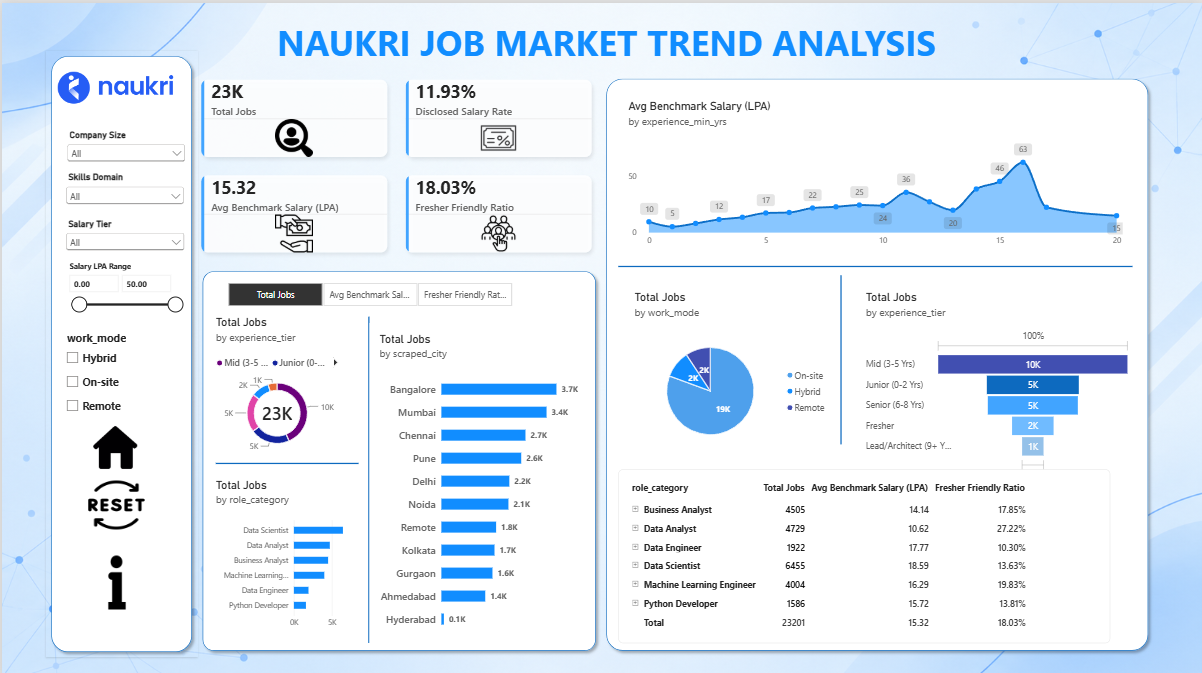

What the dashboard file says about the page in this screenshot:
{"tool":"powerbi","page":{"name":"Page 1","canvas":[1920,1080],"ordinal":0},"visuals":[{"type":"shape","box":[70.4,75.2,242.9,971.4],"z":0},{"type":"image","box":[70.4,109.5,224.3,51.4],"z":1000},{"type":"cardVisual","fields":{"Data":["measure.Total Jobs","measure.Disclosed Salary Rate","measure.Avg Benchmark Salary (LPA)","measure.Fresher Friendly Ratio"]},"box":[308,112,647.1,298.6],"z":2000},{"type":"shape","box":[311.8,420.9,647.1,625.7],"z":3000},{"type":"donutChart","fields":{"Category":["indian_tech_jobs_2026.experience_tier"],"Y":["state_name.Total Jobs"]},"box":[326.1,486.6,228.6,251.4],"z":4000},{"type":"slicer","fields":{"Values":["Metric Selector.Metric Selector"]},"box":[341.8,446.6,492.9,40],"z":5000},{"type":"clusteredBarChart","fields":{"Category":["indian_tech_jobs_2026.role_category"],"Y":["measure.Total Jobs"]},"box":[326.6,746.5,261.2,273.8],"z":6000},{"type":"shape","box":[341.6,686.5,228.6,101.4],"z":7000},{"type":"shape","box":[542.9,502.7,90,521.8],"z":8000},{"type":"barChart","fields":{"Category":["indian_tech_jobs_2026.scraped_city"],"Y":["measure.Total Jobs"]},"box":[588.4,511.2,350,514],"z":9000},{"type":"shape","box":[958.7,111.9,885,933.3],"z":10000},{"type":"lineChart","fields":{"Category":["indian_tech_jobs_2026.experience_min_yrs"],"Y":["measure.Avg Benchmark Salary (LPA)"]},"box":[985.4,140.2,823.3,268.3],"z":11000},{"type":"shape","box":[986.1,408.1,822.9,27.1],"z":12000},{"type":"pieChart","fields":{"Category":["indian_tech_jobs_2026.work_mode"],"Y":["measure.Total Jobs"]},"box":[996.1,446.6,345.7,291.4],"z":13000},{"type":"funnel","fields":{"Category":["indian_tech_jobs_2026.experience_tier"],"Y":["measure.Total Jobs"]},"box":[1366.1,446.6,455.7,337.1],"z":14000},{"type":"shape","box":[1336.1,435.2,12.9,270],"z":15000},{"type":"pivotTable","fields":{"Rows":["indian_tech_jobs_2026.role_category","indian_tech_jobs_2026.experience_tier"],"Values":["measure.Total Jobs","measure.Avg Benchmark Salary (LPA)","measure.Fresher Friendly Ratio"]},"box":[986.1,746.6,787.1,278.6],"z":16000},{"type":"slicer","fields":{"Values":["indian_tech_jobs_2026.company_size_bucket"]},"box":[99.7,201.7,197.5,68.8],"z":17000},{"type":"slicer","fields":{"Values":["indian_tech_jobs_2026.skill_domain"]},"box":[97.2,270.4,197.5,68.8],"z":18000},{"type":"slicer","fields":{"Values":["indian_tech_jobs_2026.salary_tier"]},"box":[98.5,344,198.3,51.7],"z":19000},{"type":"textbox","box":[440,24,1080,86],"z":20000},{"type":"slicer","fields":{"Values":["indian_tech_jobs_2026.salary_midpoint_lpa"]},"box":[99,411,193.5,90.6],"z":21000},{"type":"slicer","fields":{"Values":["indian_tech_jobs_2026.work_mode"]},"box":[96,524,204,162],"z":22000},{"type":"actionButton","box":[138,764,90,78],"z":23000},{"type":"actionButton","box":[146,676,70,70],"z":24000},{"type":"actionButton","box":[144,884,80,86],"z":25000}]}

Visuals, with their boxes in screenshot pixels (x1, y1, x2, y2), scaled from the page's 1920x1080 canvas onto the 1202x673 screenshot:
shape: 44, 47, 196, 652
image: 44, 68, 184, 100
cardVisual - measure.Total Jobs x measure.Disclosed Salary Rate: 193, 70, 598, 256
shape: 195, 262, 600, 652
donutChart - indian_tech_jobs_2026.experience_tier x state_name.Total Jobs: 204, 303, 347, 460
slicer - Metric Selector.Metric Selector: 214, 278, 523, 303
clusteredBarChart - indian_tech_jobs_2026.role_category x measure.Total Jobs: 204, 465, 368, 636
shape: 214, 428, 357, 491
shape: 340, 313, 396, 638
barChart - indian_tech_jobs_2026.scraped_city x measure.Total Jobs: 368, 319, 587, 639
shape: 600, 70, 1154, 651
lineChart - indian_tech_jobs_2026.experience_min_yrs x measure.Avg Benchmark Salary (LPA): 617, 87, 1132, 255
shape: 617, 254, 1133, 271
pieChart - indian_tech_jobs_2026.work_mode x measure.Total Jobs: 624, 278, 840, 460
funnel - indian_tech_jobs_2026.experience_tier x measure.Total Jobs: 855, 278, 1141, 488
shape: 836, 271, 845, 439
pivotTable - indian_tech_jobs_2026.role_category x indian_tech_jobs_2026.experience_tier: 617, 465, 1110, 639
slicer - indian_tech_jobs_2026.company_size_bucket: 62, 126, 186, 169
slicer - indian_tech_jobs_2026.skill_domain: 61, 168, 184, 211
slicer - indian_tech_jobs_2026.salary_tier: 62, 214, 186, 247
textbox: 275, 15, 952, 69
slicer - indian_tech_jobs_2026.salary_midpoint_lpa: 62, 256, 183, 313
slicer - indian_tech_jobs_2026.work_mode: 60, 327, 188, 427
actionButton: 86, 476, 143, 525
actionButton: 91, 421, 135, 465
actionButton: 90, 551, 140, 604
